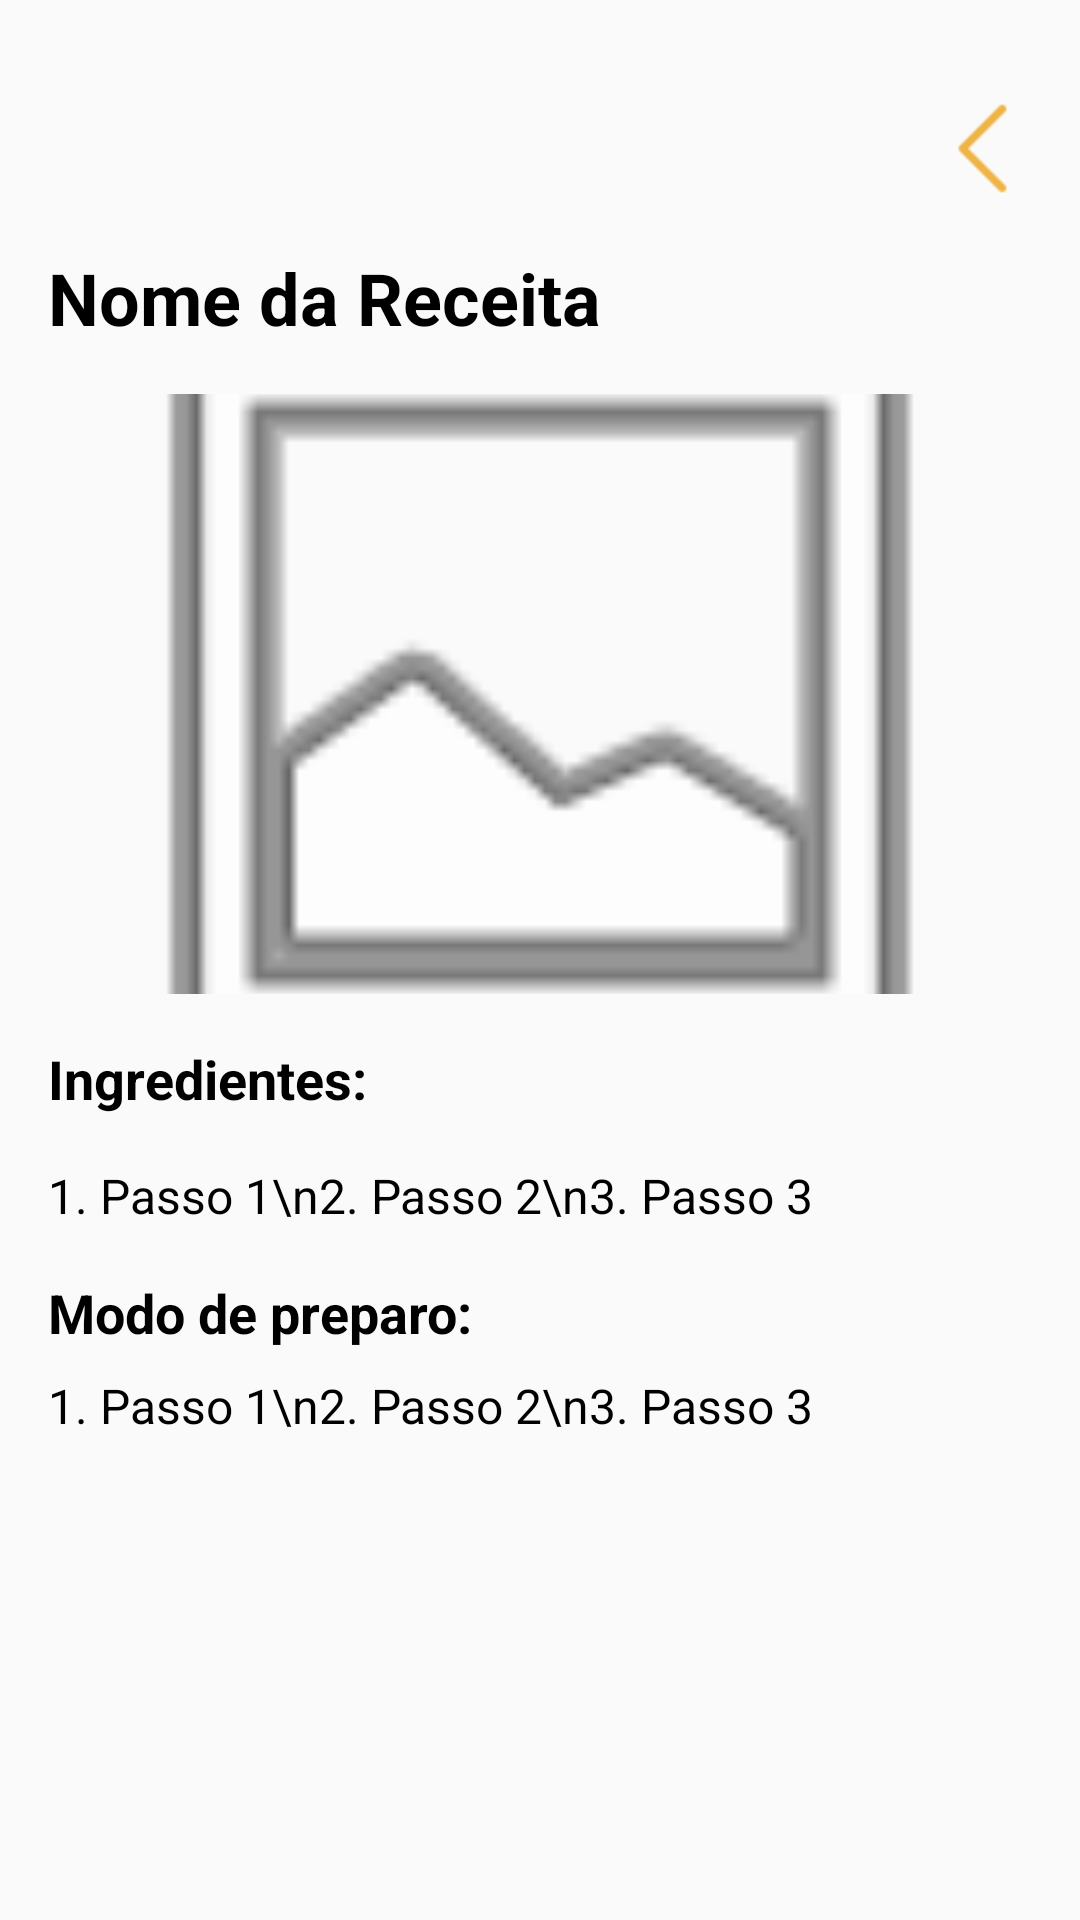

Icon bounding boxes for this 1080 x 1920 phone screenshot, format bbox=[x1, y1, x2, y2]:
Botão de voltar: bbox=[958, 104, 1007, 193]
